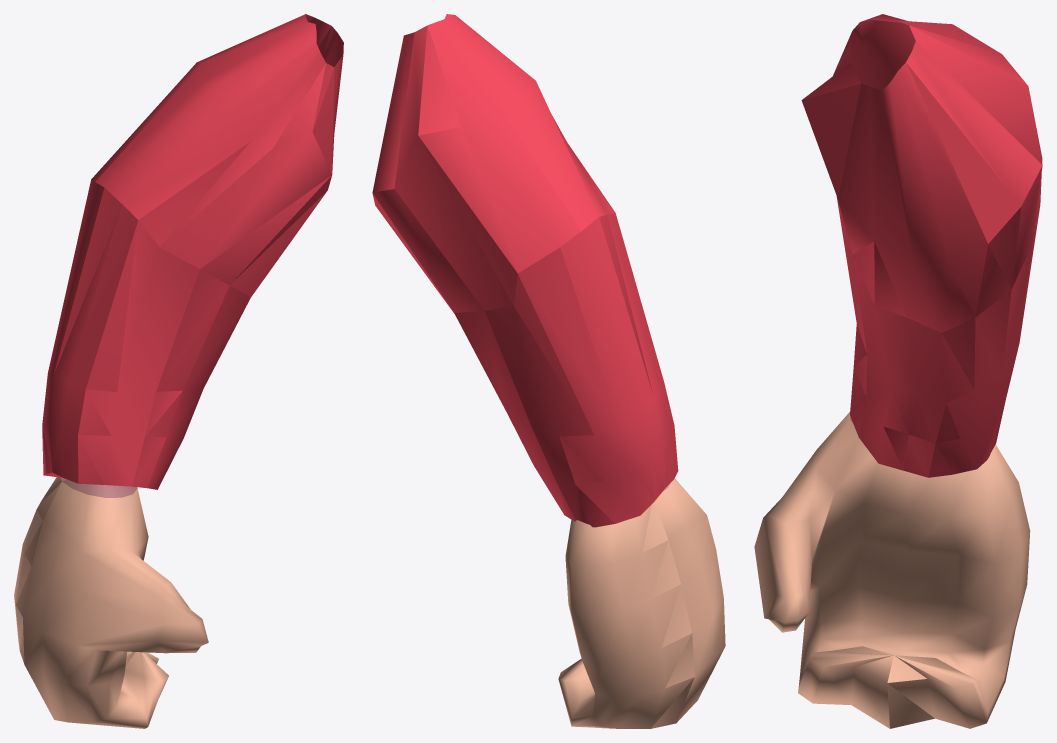
Rendered from BrazoDer.obj.
3 views of the same model, side by side, from view 1: azimuth 30°, elevation 25°; view 2: azimuth 150°, elevation 25°; view 3: azimuth 270°, elevation 25° (orthographic). The views are drawn at different scales.
Visible parts, largest first — view 1: brazoizq; view 2: brazoizq; view 3: brazoizq.
Part boxes in pixels (bbox=[...]): brazoizq: bbox=[14, 14, 343, 728]; brazoizq: bbox=[372, 14, 725, 728]; brazoizq: bbox=[754, 14, 1042, 728].
Bounding box in the file's own units: 1.26 × 2.56 × 0.8161.
1 material, 1 textured.
